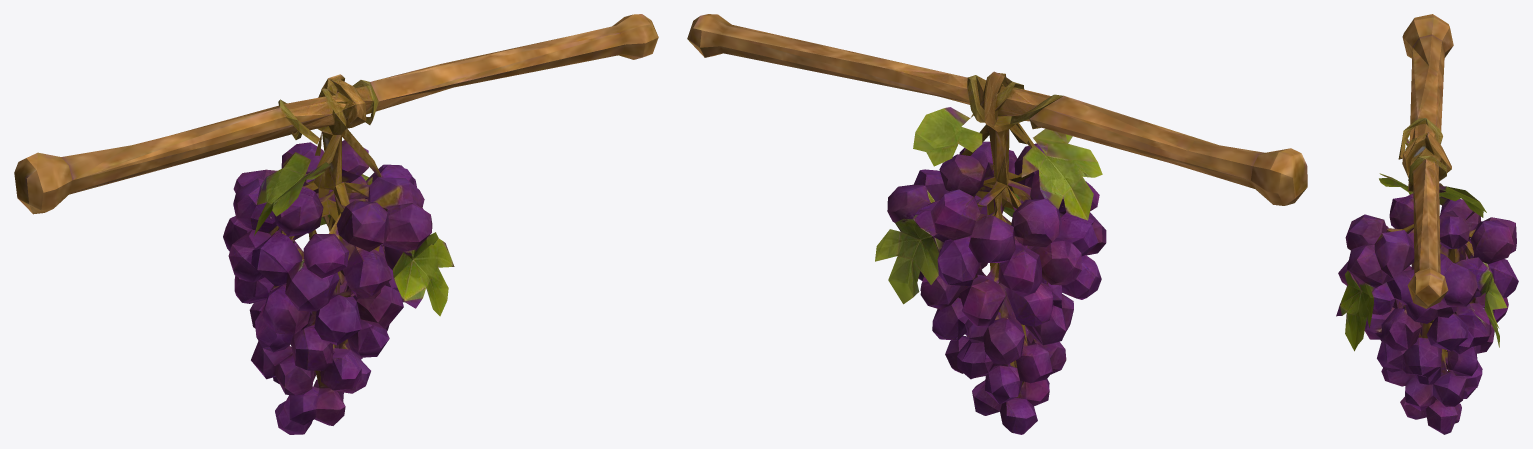
Rendered from grape-pole.glb.
3 views of the same model, side by side, from view 1: azimuth 30°, elevation 25°; view 2: azimuth 150°, elevation 25°; view 3: azimuth 270°, elevation 25° (orthographic). The views are drawn at different scales.
Size of the model in its own units: 1.89 by 1.03 by 0.5538.
1 material, 1 textured.
